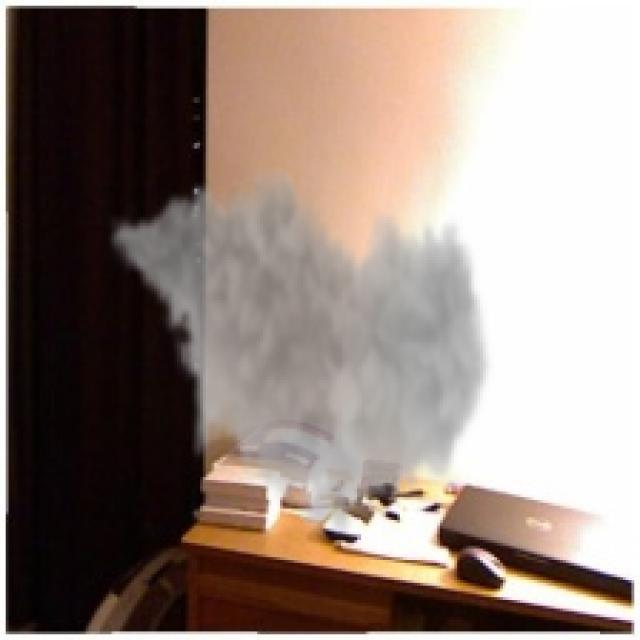Smoke: (106, 157, 494, 546)
